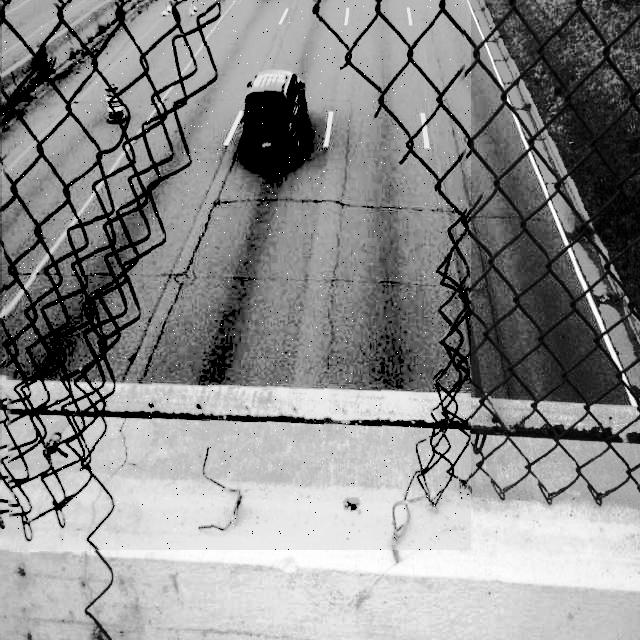anomaly-fence: (2, 0, 471, 550)
